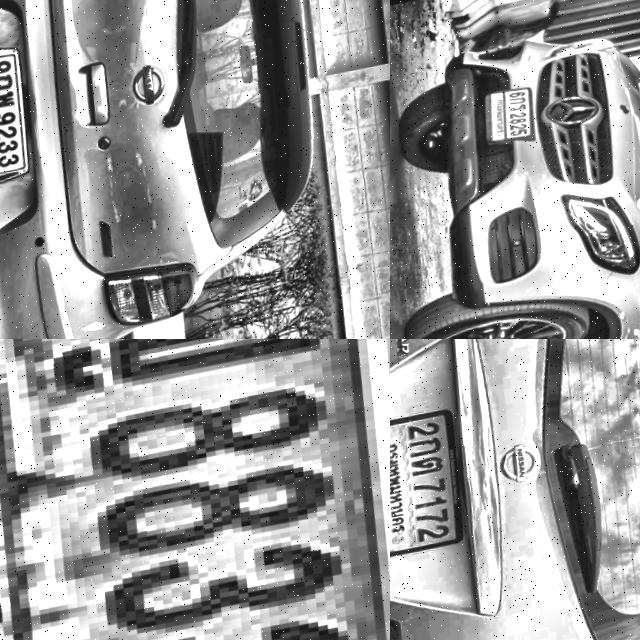license-plate: (0, 339, 390, 640), (390, 411, 474, 566), (0, 42, 45, 192), (484, 87, 544, 147)
